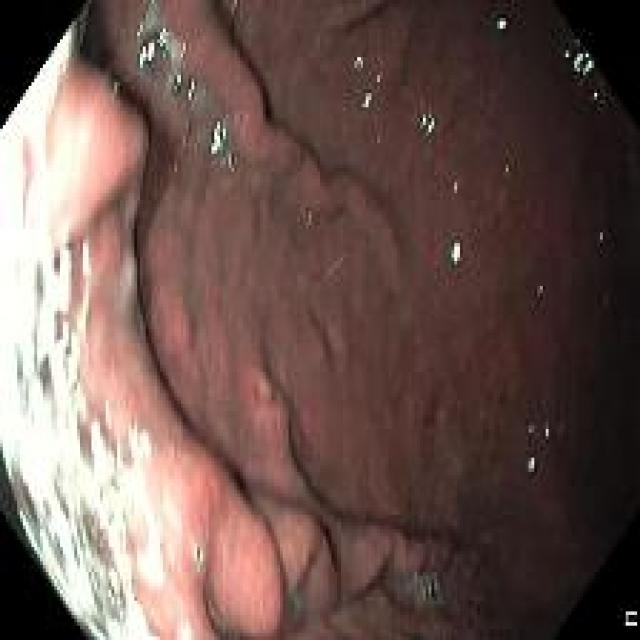blur: (1, 1, 203, 632)
bubbles: (421, 575, 441, 600)
color misalignment: (625, 610, 638, 626)
contrast: (601, 84, 637, 556)
saturation: (2, 20, 163, 638)
specularity: (210, 119, 226, 154), (573, 51, 593, 75), (137, 40, 155, 66), (419, 109, 435, 134), (81, 241, 91, 278), (175, 615, 191, 638), (449, 241, 463, 265), (193, 539, 204, 568), (155, 26, 170, 46), (103, 402, 113, 428), (361, 91, 374, 110), (493, 17, 508, 33), (186, 78, 196, 100), (525, 457, 536, 475), (172, 72, 181, 91), (354, 55, 363, 71), (178, 42, 187, 58), (591, 90, 598, 101), (544, 426, 550, 438), (564, 49, 570, 59)
